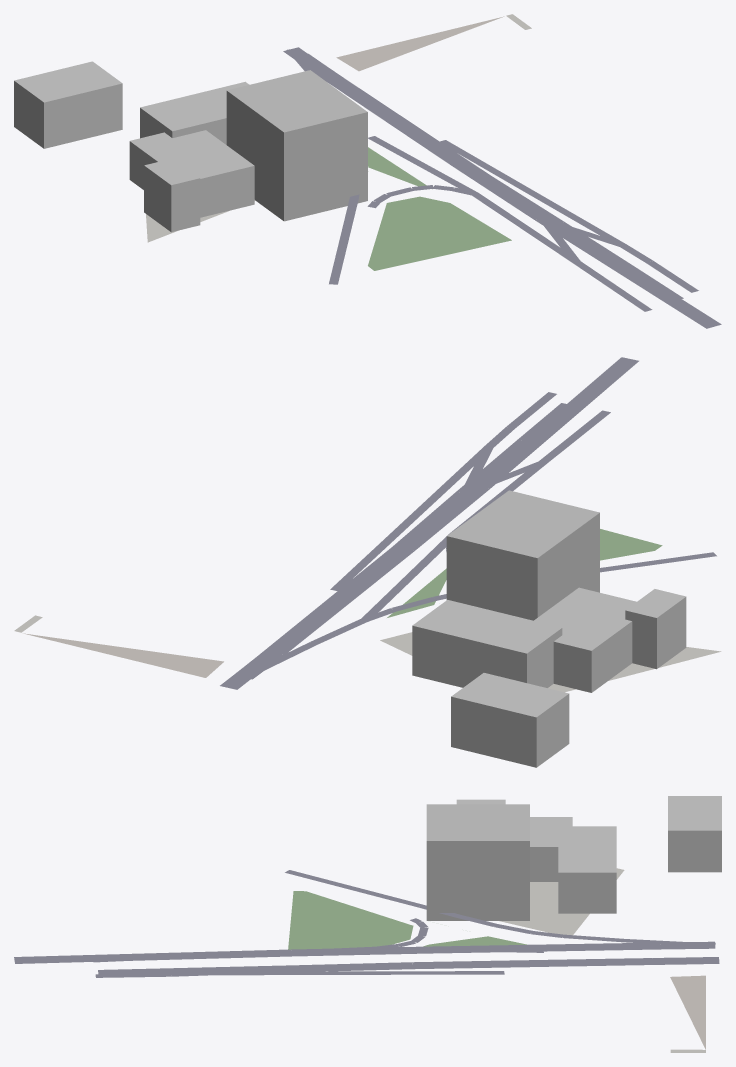
The model's file is 115_118_mid.glb.
3 renders of one model, top to bottom at view 1: azimuth 30°, elevation 25°; view 2: azimuth 150°, elevation 25°; view 3: azimuth 270°, elevation 25°, orthographic. The views are drawn at different scales.
Bounding box in the file's own units: 445 × 74.76 × 597.
